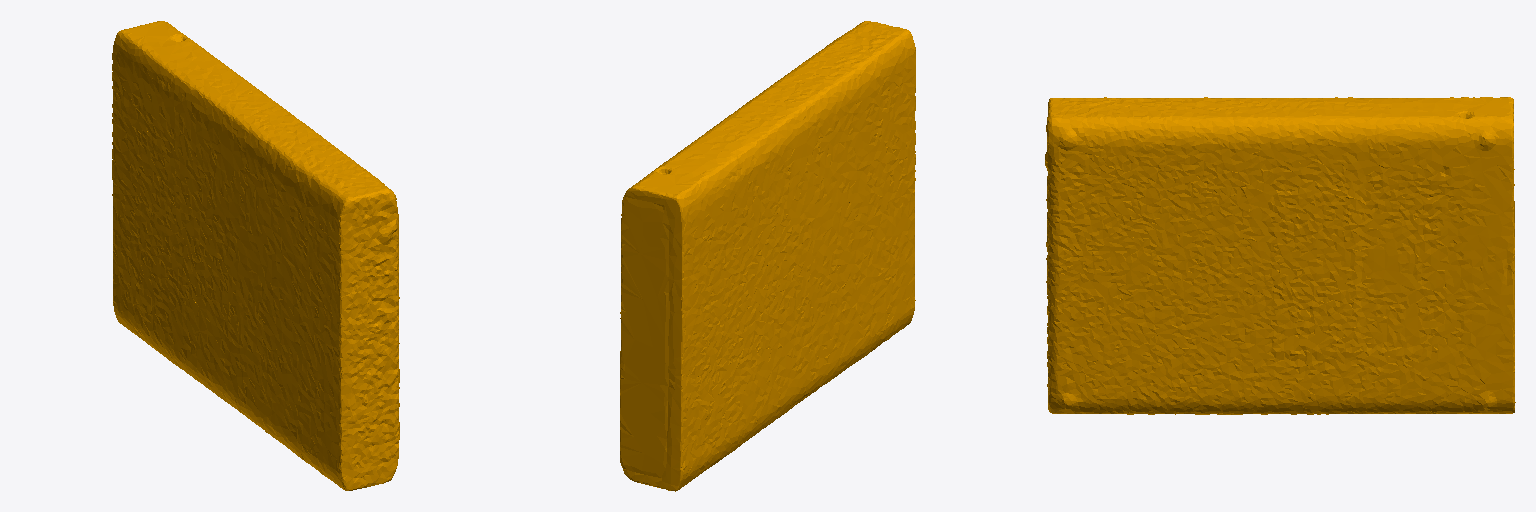
robot.urdf — model.urdf:
<?xml version="0.0" ?>
<robot name="model.urdf">
  <link name="baseLink">
    <visual>
			<origin xyz="0 0 0" rpy="-1.57 0 0"/>
      <geometry>
        <mesh filename="model.obj" scale="1 1 1"/>
      </geometry>
      <material name="white">
        <texture filename="assets/urdf_models/models/Seagate_1TB_Wireless_Plus_mobile_device_storage_1/texture.png"/>
      </material>
    </visual>
    <collision>
      <geometry>
    	 	<mesh filename="model.obj" scale="1 1 1"/>
      </geometry>
    </collision>
    <inertial>
			<mass value="0.72502"/>
			<inertia  ixx="0.00049386" ixy="0.00" ixz="0.00" iyy="0.000036798" iyz="0.00" izz="0.00051086" />
		</inertial>
  </link>
</robot>

--- Render facts (derived) ---
Views: 3 orthographic renders of the robot side by side, from view 1: azimuth 30°, elevation 25°; view 2: azimuth 150°, elevation 25°; view 3: azimuth 270°, elevation 25°.
Robot: model.urdf — 1 links, 0 joints (none); root link baseLink; default pose: every joint at zero.
Visible links, largest first — view 1: baseLink; view 2: baseLink; view 3: baseLink.
Link boxes in pixels (x1=…): baseLink: x1=112, y1=21, x2=399, y2=490; baseLink: x1=620, y1=21, x2=915, y2=491; baseLink: x1=1045, y1=97, x2=1515, y2=414.
Size in the robot's own frame: 0.0211 by 0.1283 by 0.0896 metres.
Meshes: 1 distinct files referenced, 1 mesh visuals loaded (1 OBJ).